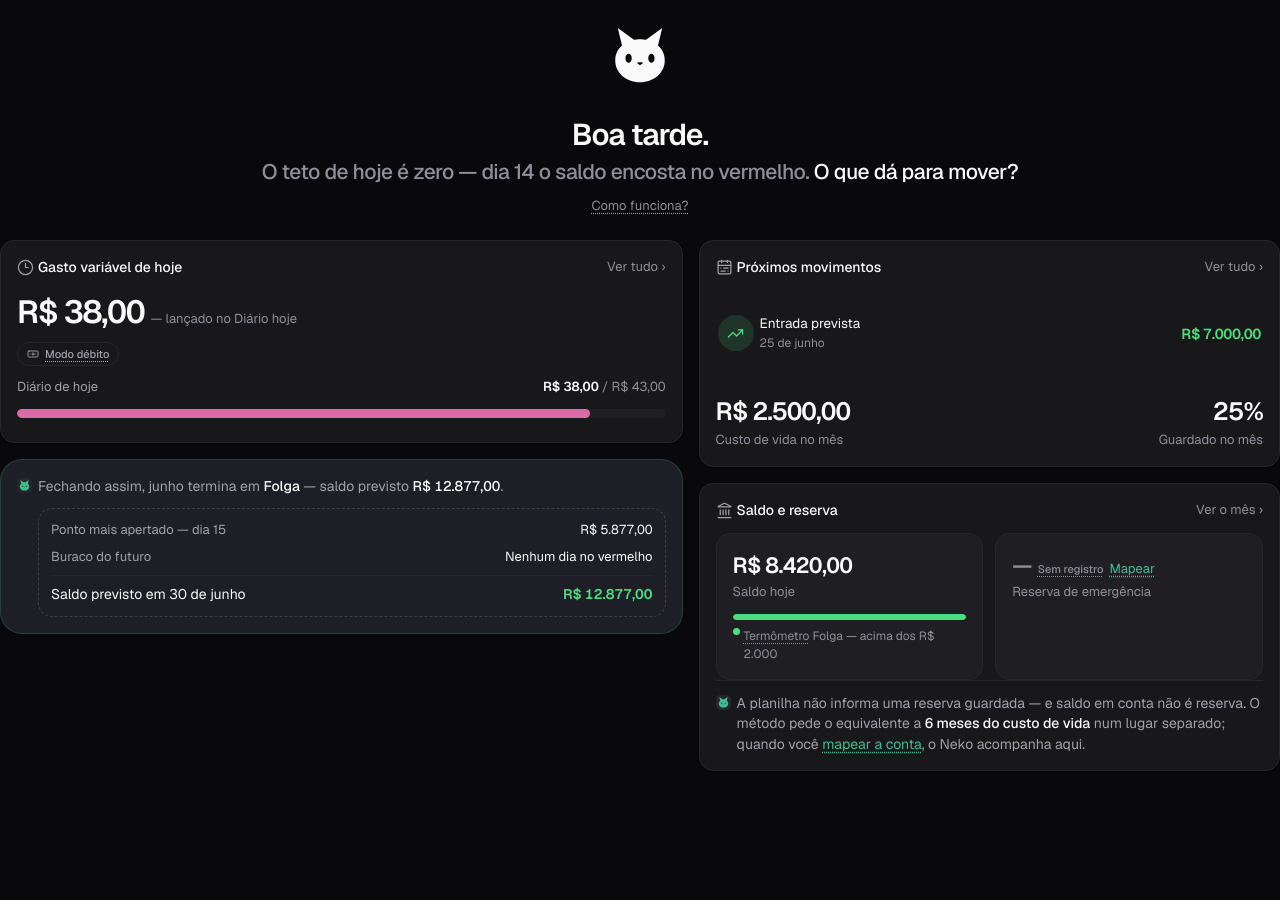
DashboardScreen (Hoje) › déficit sem reserva aponta para a performance, não para um saque
This screenshot has width=1280, height=900.
Step 1. Click the button "Como funciona?" → (640, 206), box [591,197,689,216]
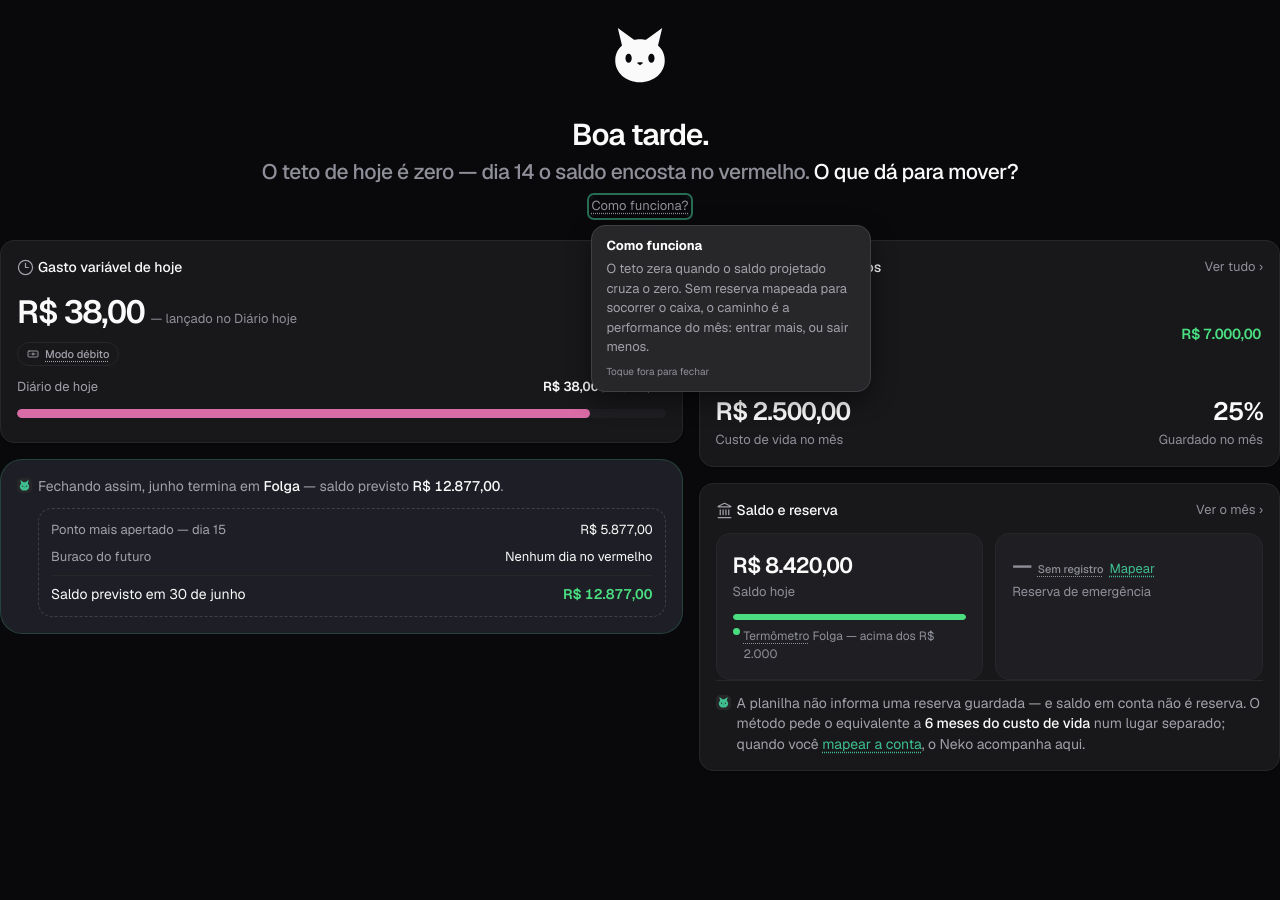
Expected: the tooltip does not show "sacar dela", [591,225,871,392]
Expected: the tooltip shows "performance do mês", [606,260,849,356]
